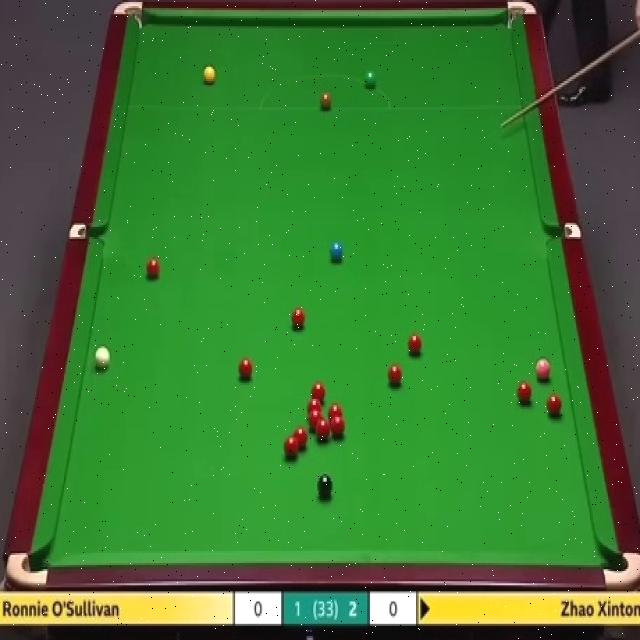black-ball: (317, 472, 333, 502)
blue-ball: (329, 240, 344, 262)
brown-ball: (319, 91, 332, 111)
green-ball: (363, 70, 377, 90)
pink-ball: (535, 357, 551, 382)
red-ball: (238, 356, 255, 384), (282, 436, 300, 461), (518, 381, 535, 405), (546, 395, 564, 417), (294, 429, 310, 453), (330, 416, 346, 440), (408, 332, 423, 357), (146, 258, 163, 280), (387, 364, 402, 388), (291, 308, 306, 330), (316, 418, 330, 441), (310, 382, 326, 399), (308, 411, 322, 430), (307, 397, 322, 414), (328, 406, 342, 419)
white-ball: (93, 345, 113, 372)
yellow-ball: (203, 66, 217, 87)
